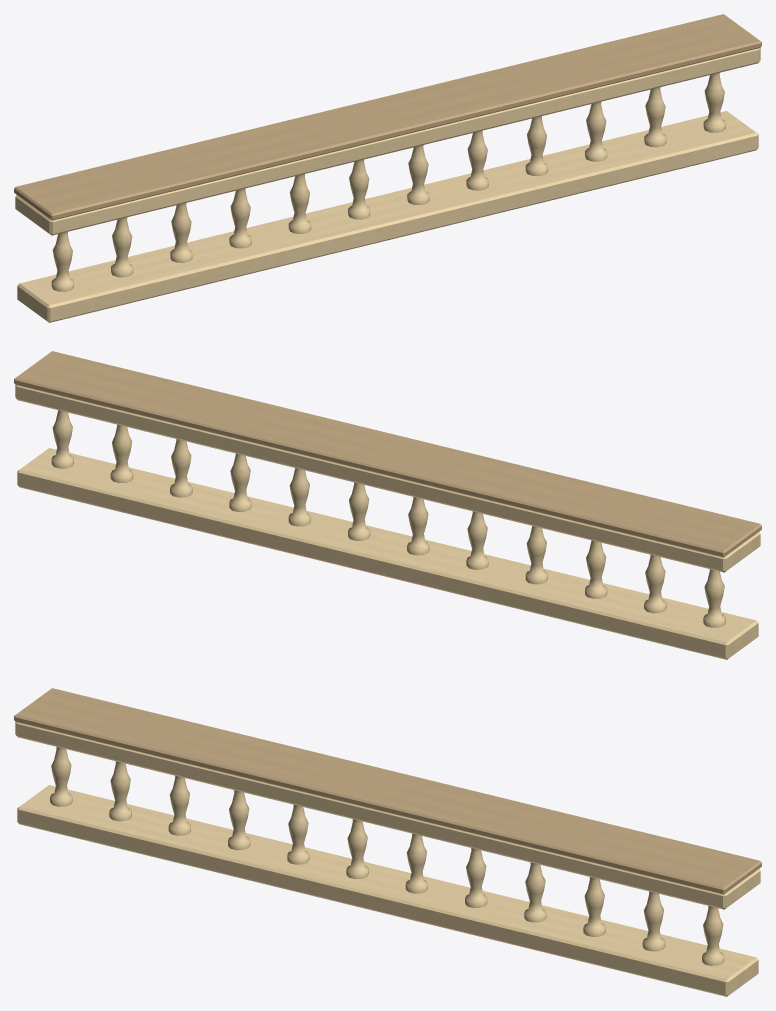
The model's file is PMU_Balustrade_16.glb.
The picture shows the model from 3 angles, top to bottom: view 1: azimuth 30°, elevation 25°; view 2: azimuth 150°, elevation 25°; view 3: azimuth 330°, elevation 25°; orthographic projection.
Visible parts, largest first — view 1: PMU_Balustrade_16; view 2: PMU_Balustrade_16; view 3: PMU_Balustrade_16.
Part boxes in pixels (<box>): PMU_Balustrade_16: <box>14,14,761,322</box>; PMU_Balustrade_16: <box>14,351,761,659</box>; PMU_Balustrade_16: <box>14,688,761,996</box>.
Size of the model in its own units: 16 by 2.41 by 1.5.
Materials: 1 (1 with a texture image).
